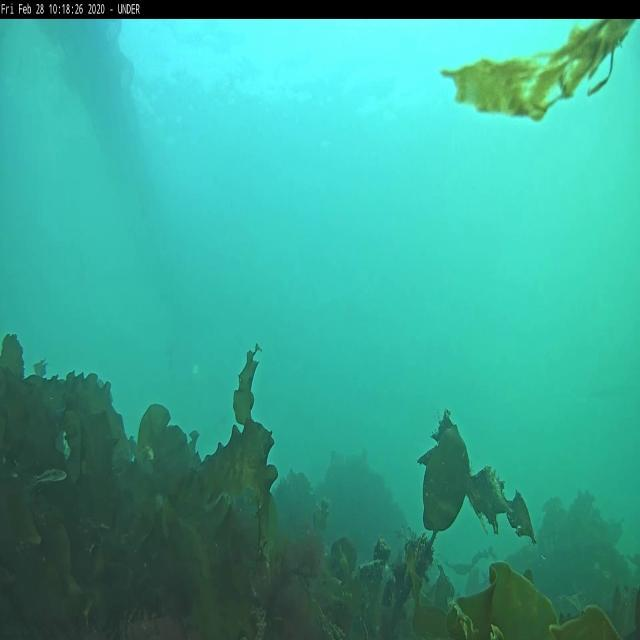fish: (36, 466, 70, 482)
